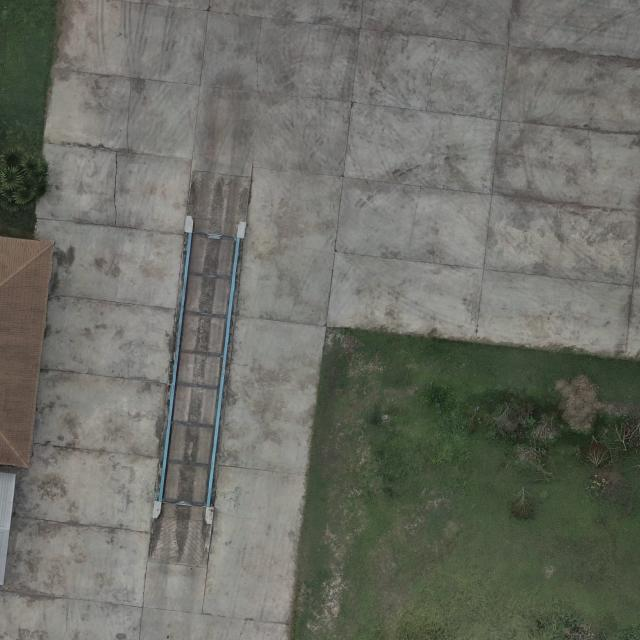Tree: (0, 146, 46, 213)
